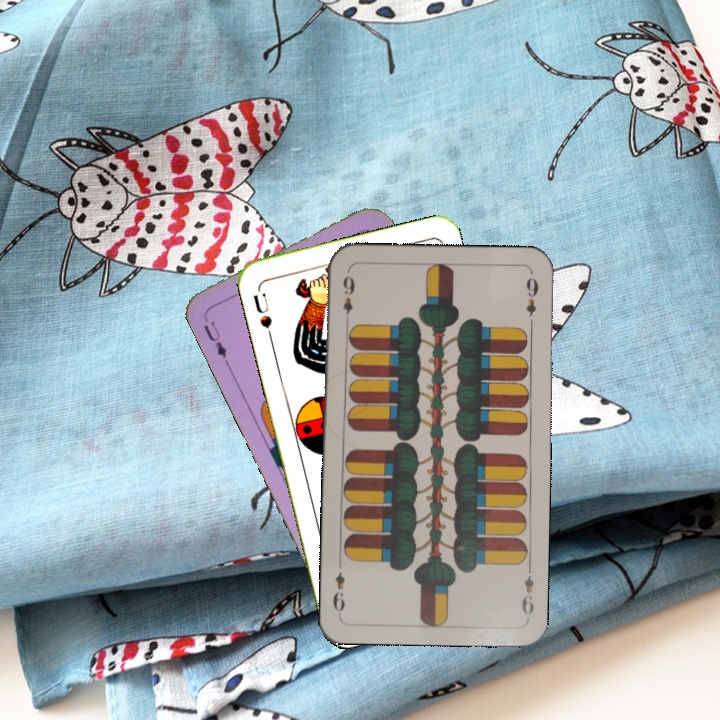E9: (517, 562, 537, 621), (339, 268, 358, 327)
EU: (199, 317, 232, 367)
SU: (249, 284, 275, 343)
